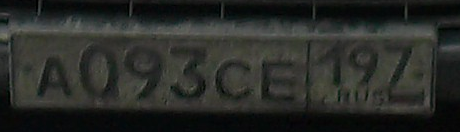character: (75, 42, 122, 100), (164, 45, 210, 104), (122, 41, 165, 102), (255, 54, 301, 107), (210, 53, 255, 104), (32, 52, 76, 103), (379, 37, 418, 91), (312, 40, 346, 88), (346, 42, 379, 90)
